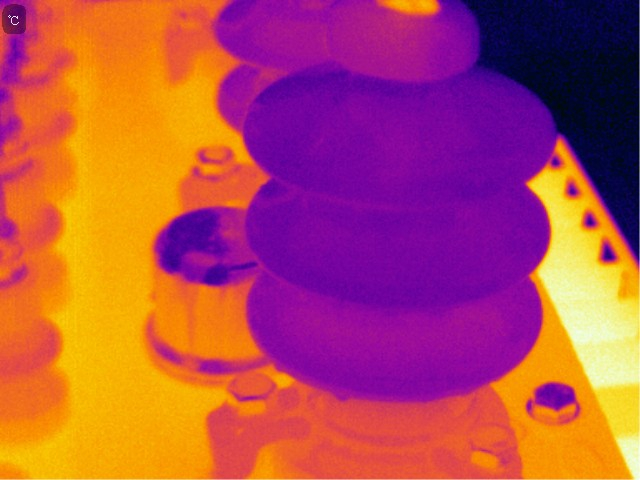Oil: (371, 1, 447, 19), (334, 384, 352, 404)
